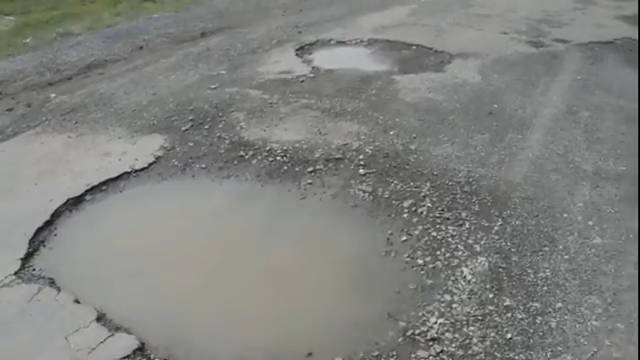pothole: (91, 188, 421, 360)
